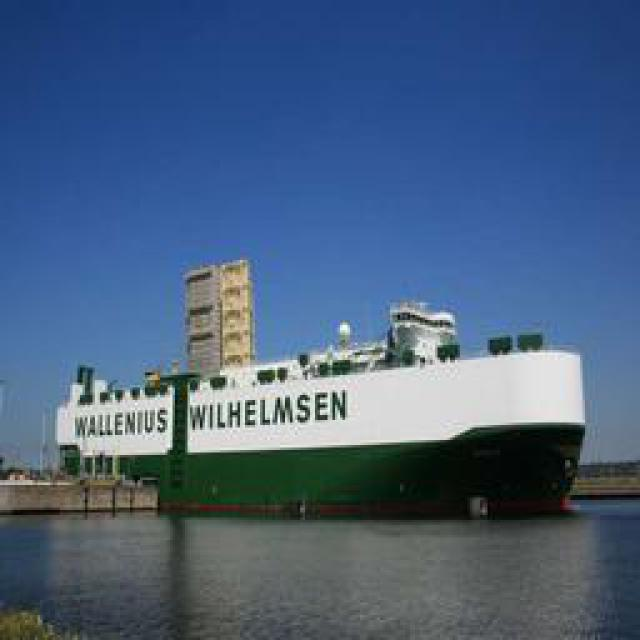Ship: (40, 284, 583, 514)
